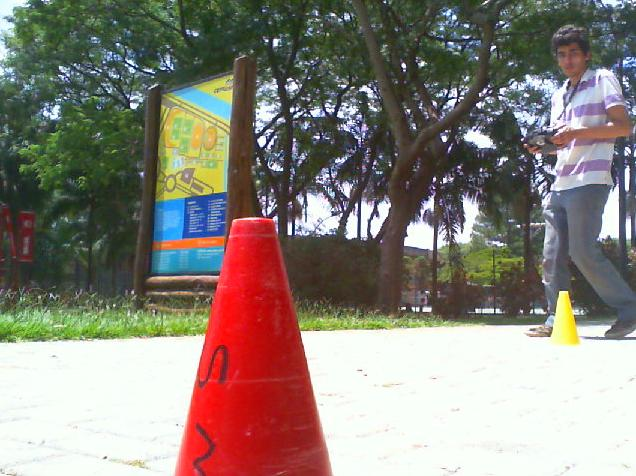0 cone: (174, 217, 333, 476), (550, 291, 579, 347)
